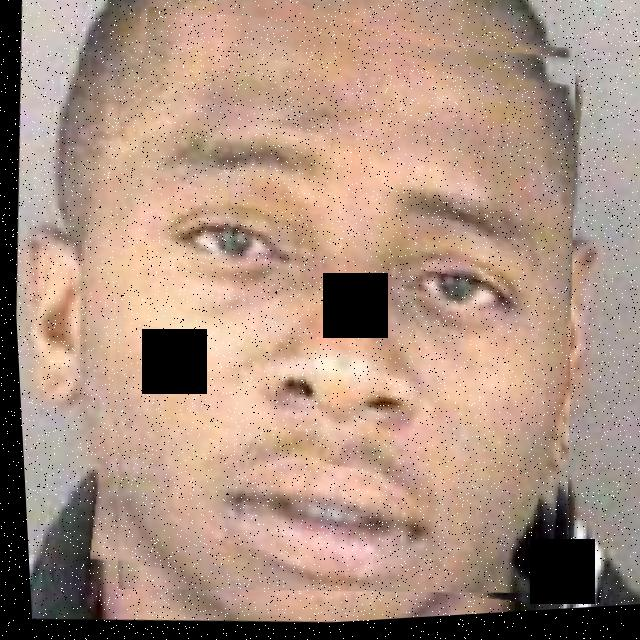sad: (71, 0, 599, 621)
